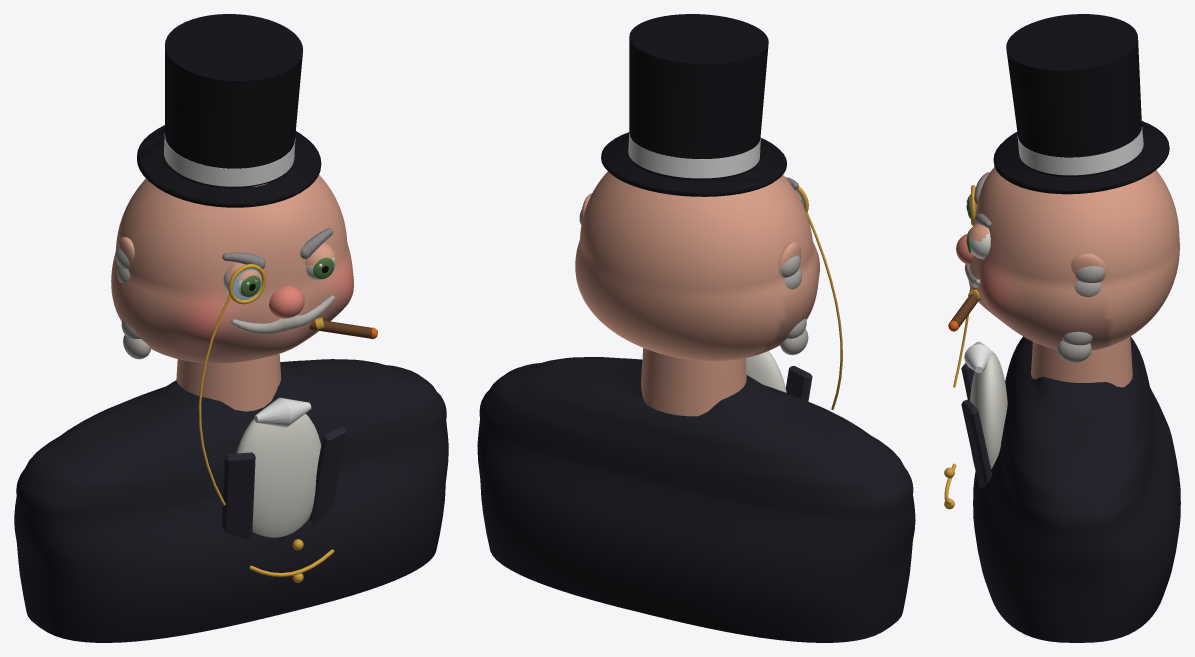
The model's file is magnate_hugo.fbx.
The picture shows the model from 3 angles, left to right: view 1: azimuth 30°, elevation 25°; view 2: azimuth 150°, elevation 25°; view 3: azimuth 270°, elevation 25°; orthographic projection. The views are drawn at different scales.
Parts seen in each view (by area): view 1: magnate_hugo, magnate_hugo__head; view 2: magnate_hugo, magnate_hugo__head; view 3: magnate_hugo__head, magnate_hugo.
Boxes of the visible parts, x1,y1,x2,y2 form: magnate_hugo: (14,353,448,642); magnate_hugo__head: (111,14,377,505); magnate_hugo: (477,348,915,642); magnate_hugo__head: (575,14,842,409); magnate_hugo__head: (948,14,1179,387); magnate_hugo: (944,336,1180,642).
Size of the model in its own units: 1.86 by 2.32 by 0.9658.
